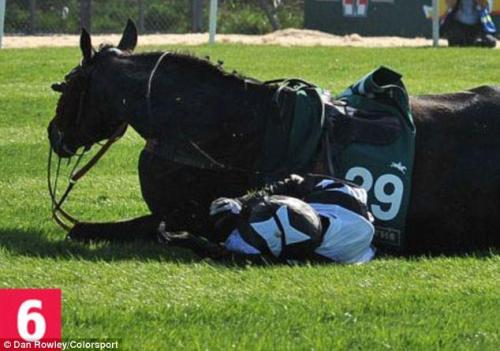down: (142, 145, 431, 292)
